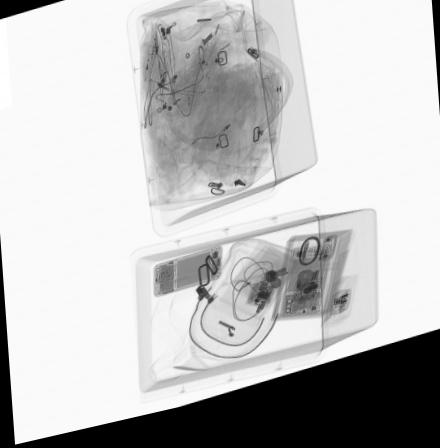Lighter: (139, 51, 158, 91)
